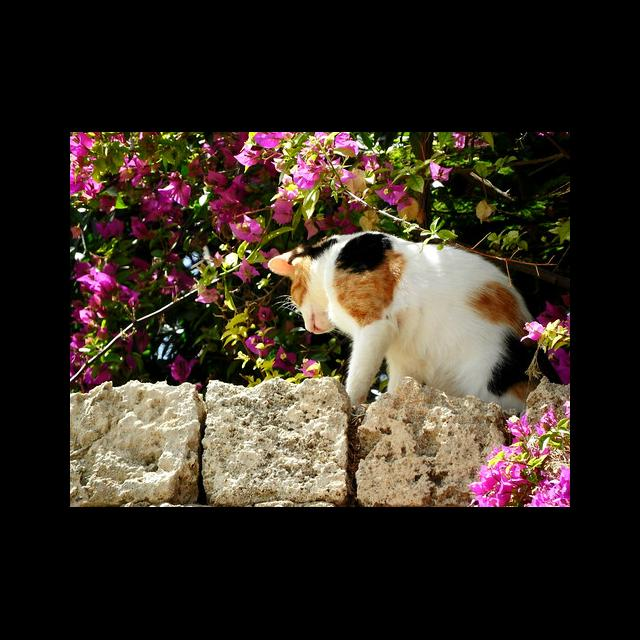animals: (268, 231, 538, 408)
